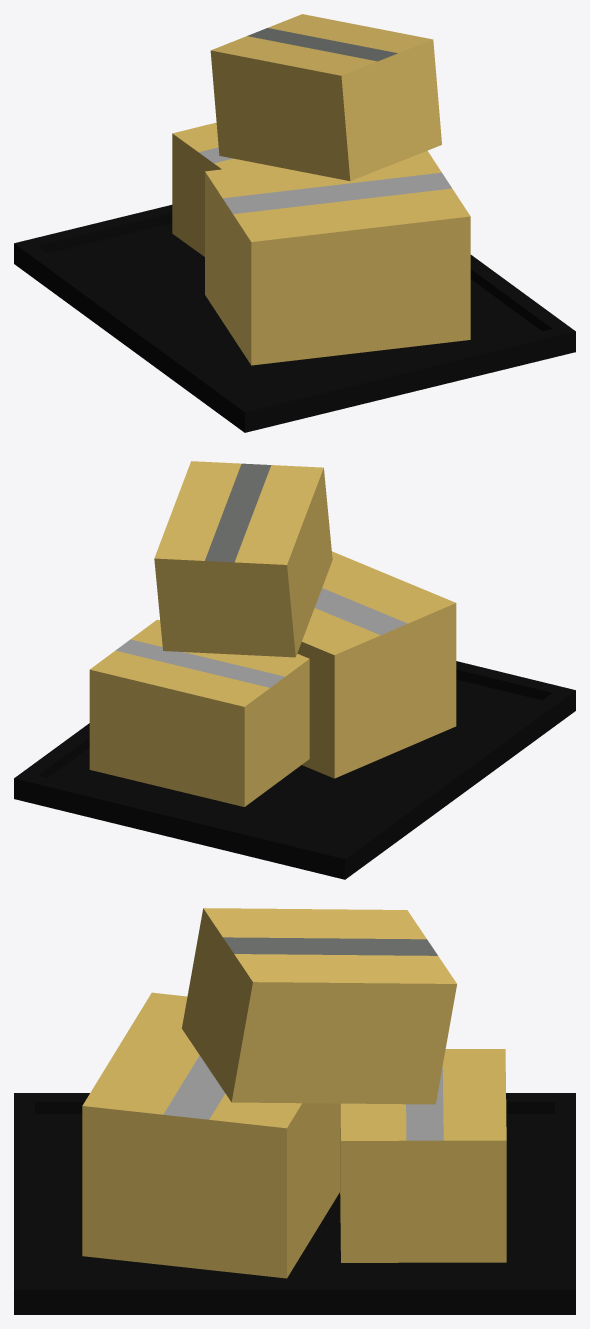
The model's file is SurfaceArea_EmptySlot.fbx.
3 views of the same model, one above another, from view 1: azimuth 30°, elevation 25°; view 2: azimuth 150°, elevation 25°; view 3: azimuth 270°, elevation 25° (orthographic). The views are drawn at different scales.
Parts seen in each view (by area): view 1: Cube.350, EmptySlot, Cube.351, Cube.349; view 2: EmptySlot, Cube.349, Cube.351, Cube.350; view 3: EmptySlot, Cube.350, Cube.351, Cube.349.
Boxes of the visible parts, <box> form: Cube.350: <box>205,150,470,365</box>; EmptySlot: <box>14,205,575,432</box>; Cube.351: <box>210,14,441,180</box>; Cube.349: <box>172,122,263,256</box>; EmptySlot: <box>14,661,575,879</box>; Cube.349: <box>89,619,309,806</box>; Cube.351: <box>154,461,332,657</box>; Cube.350: <box>297,551,456,778</box>; EmptySlot: <box>14,1093,575,1314</box>; Cube.350: <box>82,992,339,1278</box>; Cube.351: <box>182,908,456,1104</box>; Cube.349: <box>340,1049,506,1262</box>.
Bounding box in the file's own units: 2.61 × 3.15 × 1.94.
